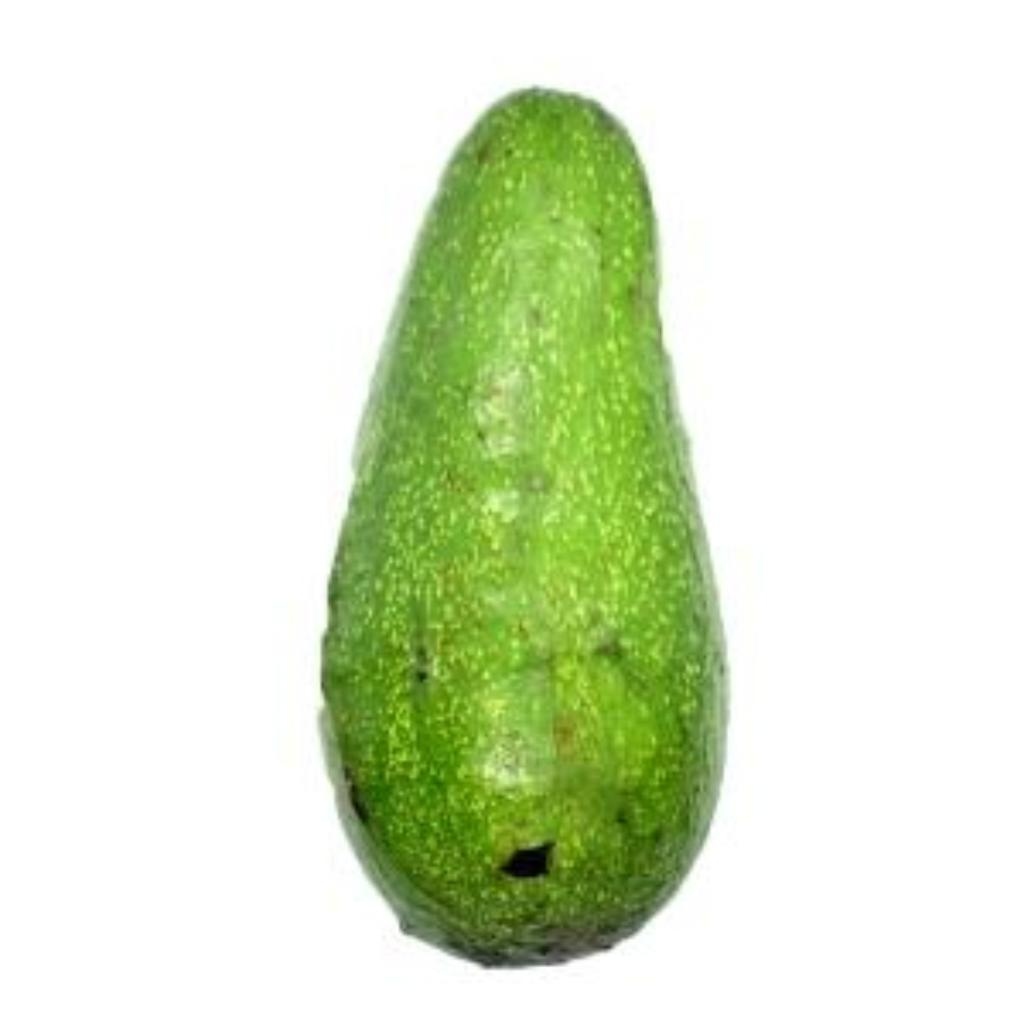cercospora_spot: (310, 77, 748, 985)
